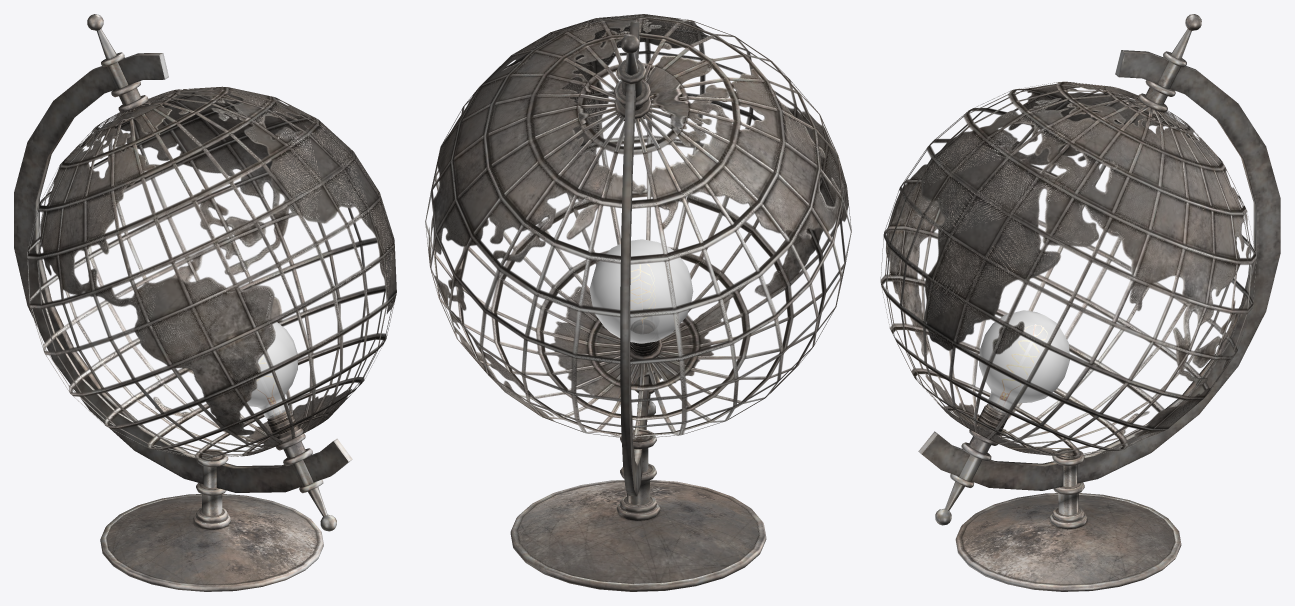
The model's file is globe_elements_collection_3d_model.glb.
The picture shows the model from 3 angles, left to right: view 1: azimuth 30°, elevation 25°; view 2: azimuth 150°, elevation 25°; view 3: azimuth 270°, elevation 25°; orthographic projection. The views are drawn at different scales.
Parts seen in each view (by area): view 1: Material1-material-material, Material2-material-material, Material3-material-material; view 2: Material1-material-material, Material2-material-material, Material3-material-material; view 3: Material1-material-material, Material2-material-material, Material3-material-material.
Boxes of the visible parts, bbox=[...] form: Material1-material-material: bbox=[27, 86, 396, 458]; Material2-material-material: bbox=[14, 14, 352, 591]; Material3-material-material: bbox=[244, 322, 297, 418]; Material1-material-material: bbox=[425, 14, 851, 439]; Material2-material-material: bbox=[510, 21, 766, 591]; Material3-material-material: bbox=[589, 239, 693, 343]; Material1-material-material: bbox=[880, 81, 1256, 457]; Material2-material-material: bbox=[918, 14, 1280, 591]; Material3-material-material: bbox=[979, 310, 1069, 413].
Size of the model in its own units: 0.3851 by 0.5704 by 0.4112.
Materials: 4 (3 with a texture image).
